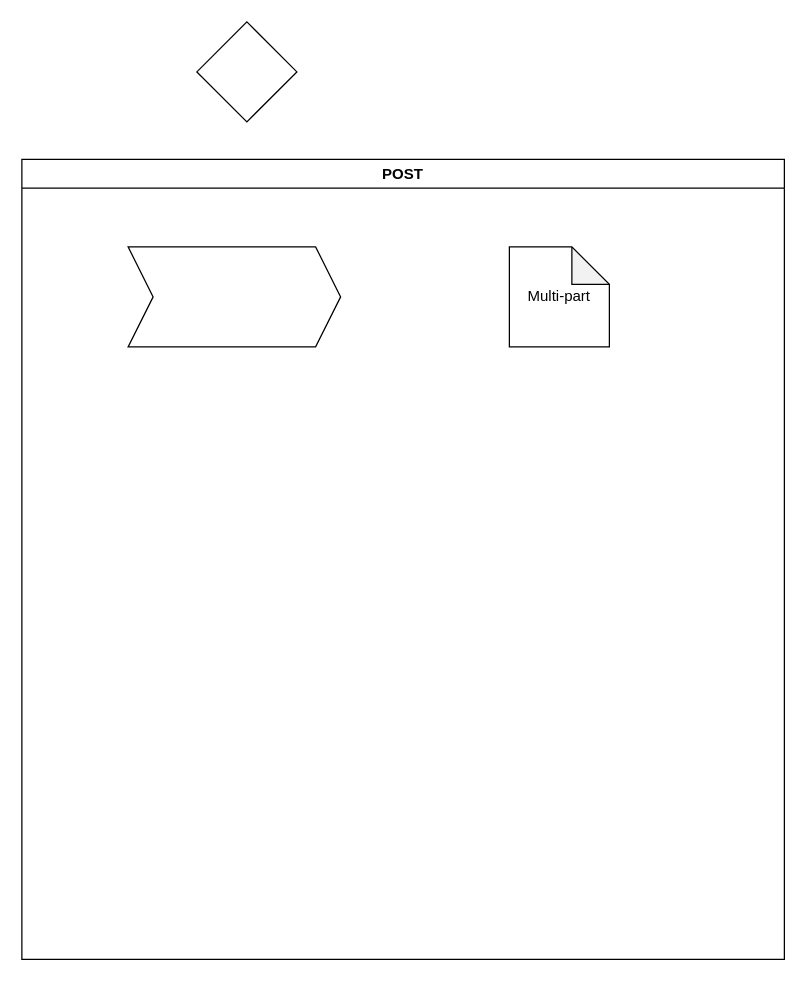
Some shapes in this 806 by 981 pixel diagram are drawn without their labels. The shapes that lost their labels are listed below. From the top down, each one's centre as x and y in pixels, then its label:
the point at 246,71: Method
the point at 234,296: Check Access
